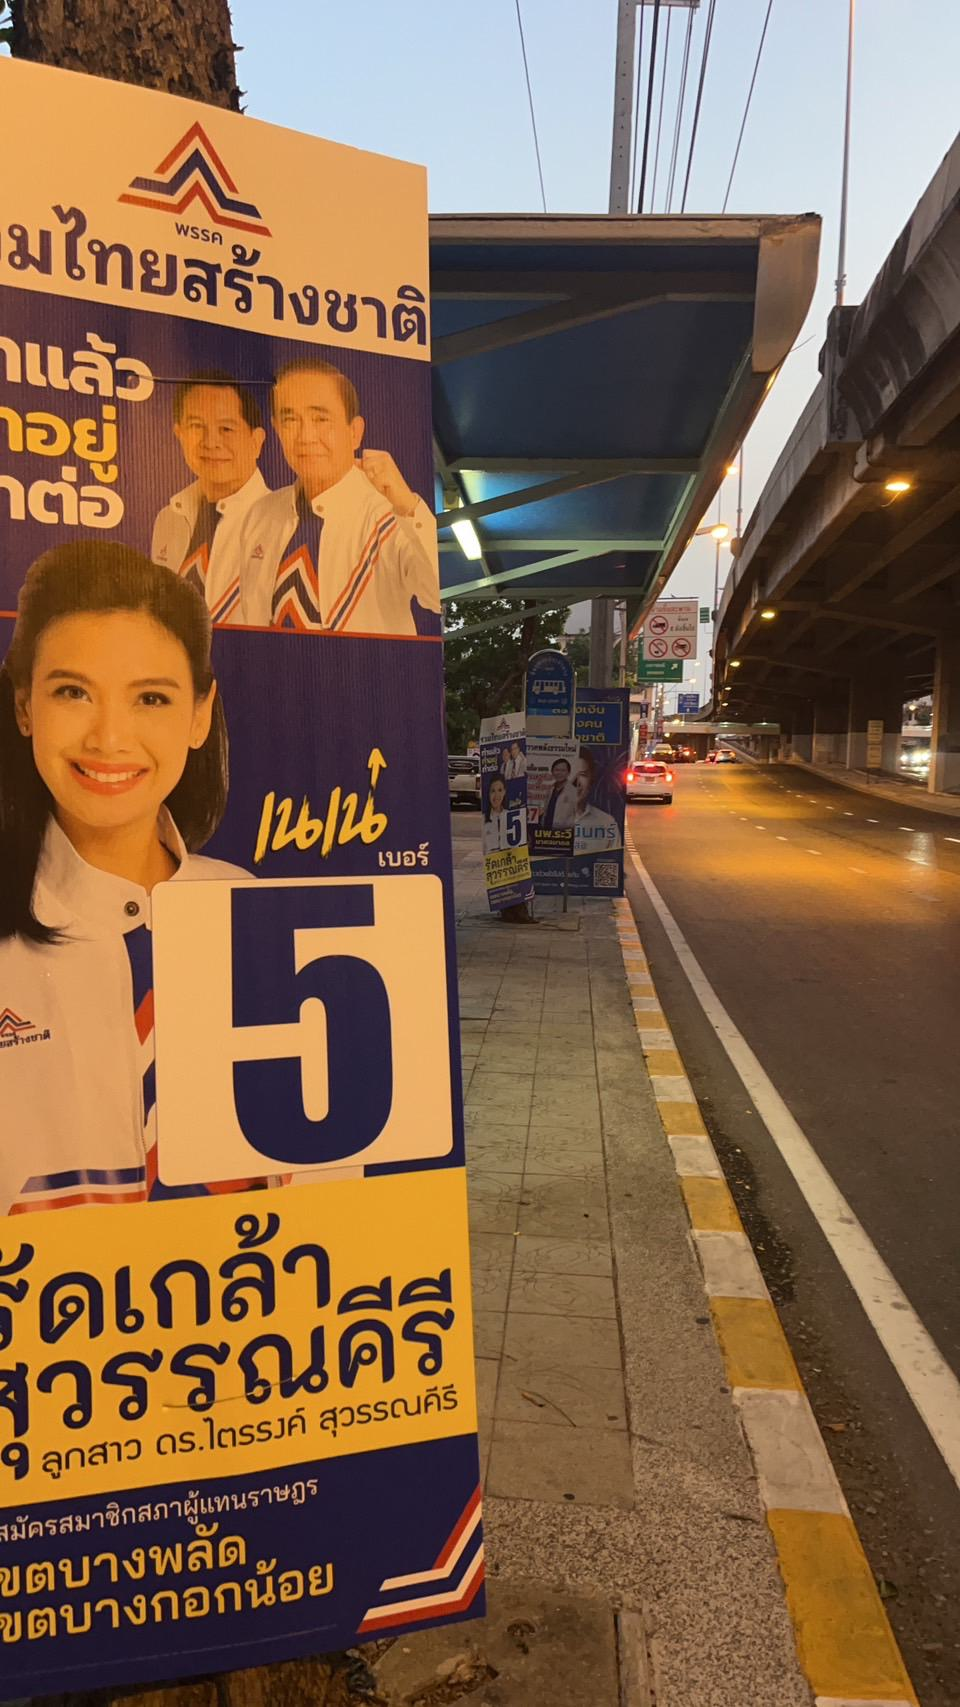Banner: (0, 34, 501, 1635)
